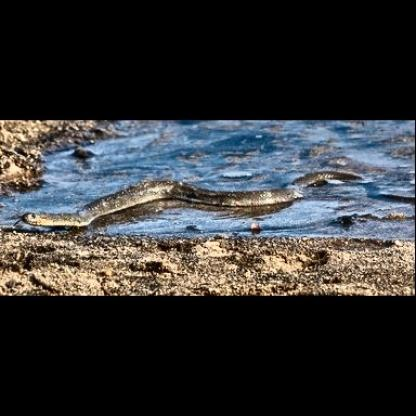Snake: (6, 163, 405, 227)
